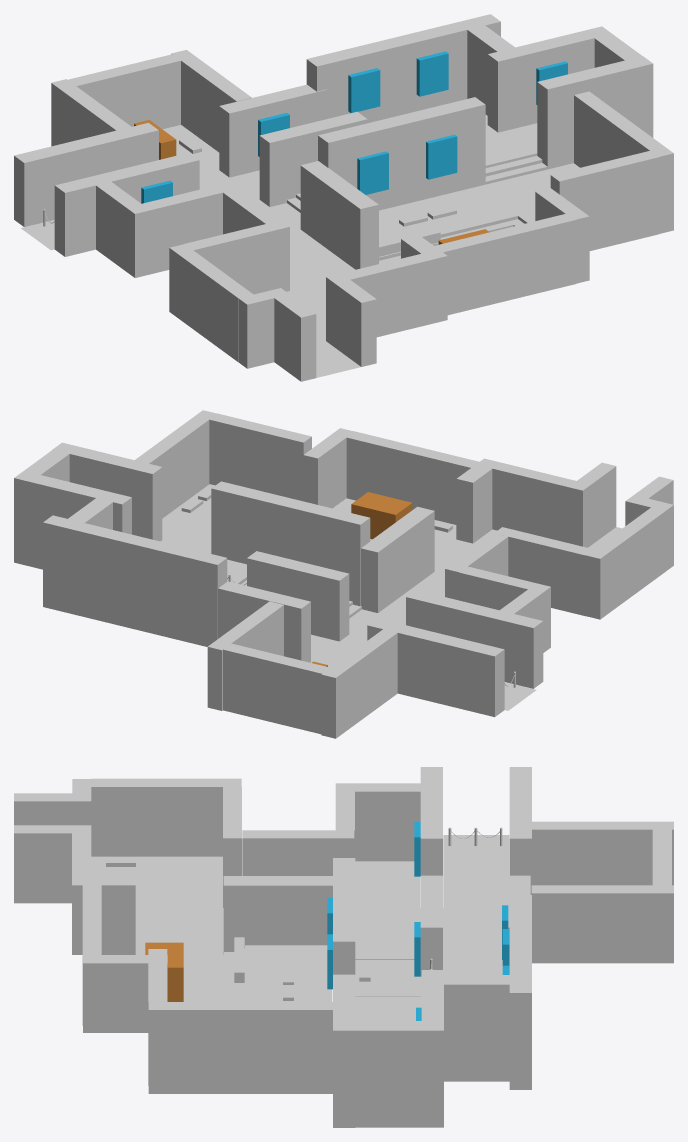
File: level_blockout_00.fbx
3 views of the same model, one above another, from view 1: azimuth 30°, elevation 25°; view 2: azimuth 150°, elevation 25°; view 3: azimuth 270°, elevation 25° (orthographic). The views are drawn at different scales.
Parts seen in each view (by area): view 1: Wall.028, Wall.007, Wall.021, Floor_0, Wall.009, Wall.015, Wall.025, Wall.019, Wall.023, Wall.014, Wall.001, Floor_1 (+28 smaller); view 2: Wall.021, Wall.028, Wall.015, Wall.007, Wall.018, Wall.009, Wall.014, Wall.004, Wall.001, Wall.016, Wall.019, Wall.023 (+19 smaller); view 3: Floor_0, Wall.010, Wall.017, Wall.001, Wall.016, Wall.019, Wall.022, Wall.024, Wall.008, Wall.013, Wall.011, Wall.005 (+24 smaller).
Part boxes in pixels (x1,y1,x2,y2): Wall.028: (318,97,485,210); Wall.007: (434,214,576,315); Wall.021: (306,14,500,122); Floor_0: (21,125,360,377); Wall.009: (550,150,659,250); Wall.015: (14,123,158,226); Wall.025: (537,56,653,169); Wall.019: (300,161,378,269); Wall.023: (487,26,611,132); Wall.014: (54,152,199,256); Wall.001: (169,244,253,362); Floor_1: (379,163,579,242); Wall.021: (43,515,227,646); Wall.028: (211,481,370,606); Wall.015: (367,618,504,717); Wall.007: (345,431,480,524); Wall.018: (223,643,330,734); Wall.009: (209,413,311,501); Wall.014: (406,590,543,688); Wall.004: (492,462,590,547); Wall.001: (585,507,665,619); Wall.016: (321,629,397,738); Wall.019: (361,506,434,612); Wall.023: (14,471,131,569); Floor_0: (91,835,509,1001); Wall.010: (148,1002,332,1093); Wall.017: (531,885,673,963); Wall.001: (91,778,241,856); Wall.016: (531,821,673,885); Wall.019: (223,876,332,954); Wall.022: (443,975,531,1081); Wall.024: (354,1021,421,1127); Wall.008: (83,955,167,1032); Wall.013: (335,783,421,861); Wall.011: (242,830,354,875); Wall.005: (14,825,72,903).
Size of the model in its own units: 1801 by 310 by 1714.
